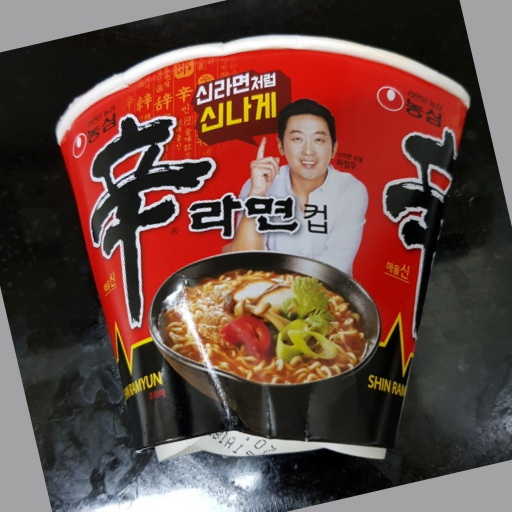Paper_1: (52, 33, 472, 464)
